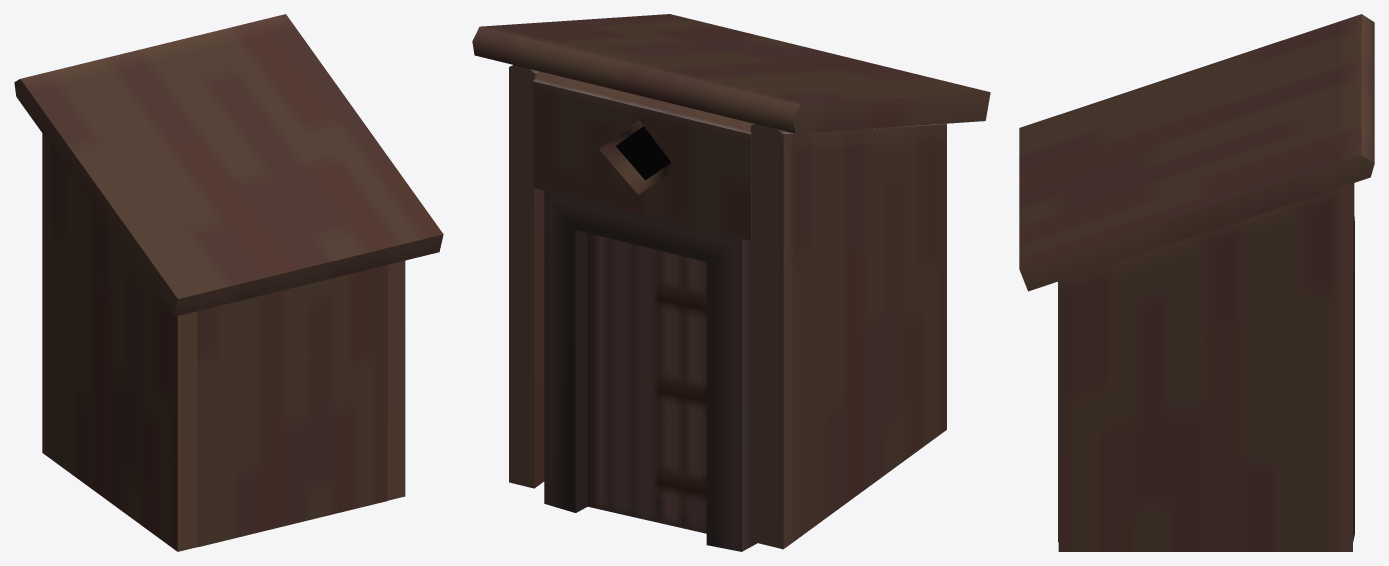
Rendered from toilet016.fbx.
3 views of the same model, side by side, from view 1: azimuth 30°, elevation 25°; view 2: azimuth 150°, elevation 25°; view 3: azimuth 270°, elevation 25° (orthographic). The views are drawn at different scales.
Visible parts, largest first — view 1: toilet016; view 2: toilet016; view 3: toilet016.
Boxes of the visible parts, <box> form: toilet016: <box>14,14,443,551</box>; toilet016: <box>472,14,990,551</box>; toilet016: <box>1019,14,1374,551</box>.
Bounding box in the file's own units: 191 × 265 × 203.
